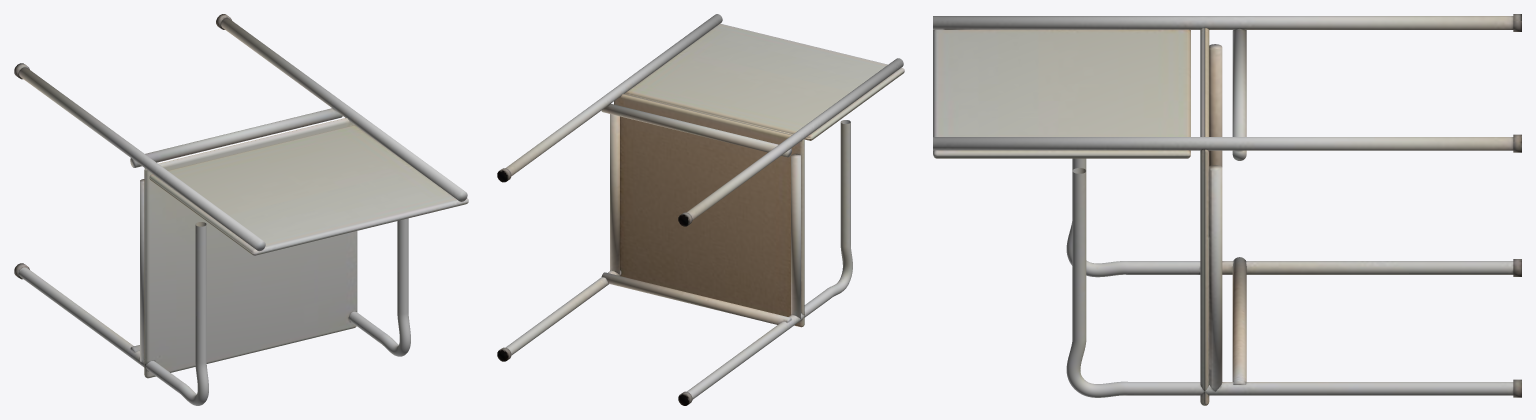
File: C2_chair_final_3.obj
3 renders of one model, left to right at view 1: azimuth 30°, elevation 25°; view 2: azimuth 150°, elevation 25°; view 3: azimuth 270°, elevation 25°, orthographic. The views are drawn at different scales.
Parts seen in each view (by area): view 1: C2_chair_final_3.001; view 2: C2_chair_final_3.001; view 3: C2_chair_final_3.001.
Part boxes in pixels (<box>): C2_chair_final_3.001: <box>14,14,468,405</box>; C2_chair_final_3.001: <box>497,14,904,405</box>; C2_chair_final_3.001: <box>933,14,1521,405</box>.
Bounding box in the file's own units: 0.44 × 0.426 × 0.845.
1 material, 1 textured.
